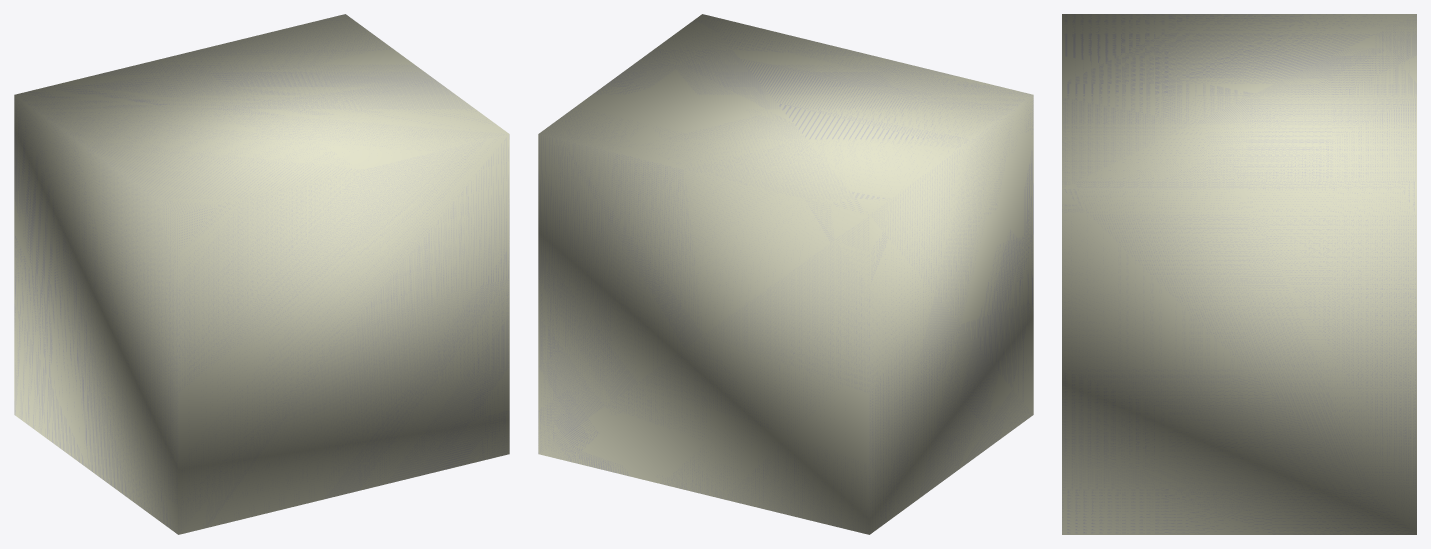
3 views of the same model, side by side, from view 1: azimuth 30°, elevation 25°; view 2: azimuth 150°, elevation 25°; view 3: azimuth 270°, elevation 25° (orthographic). The views are drawn at different scales.
Parts seen in each view (by area): view 1: SketchUp; view 2: SketchUp; view 3: SketchUp.
Part boxes in pixels (x1,y1,x2,y2): SketchUp: [14, 14, 509, 534]; SketchUp: [538, 14, 1033, 534]; SketchUp: [1062, 14, 1416, 534].
Size of the model in its own units: 171027 by 146688 by 158007.
